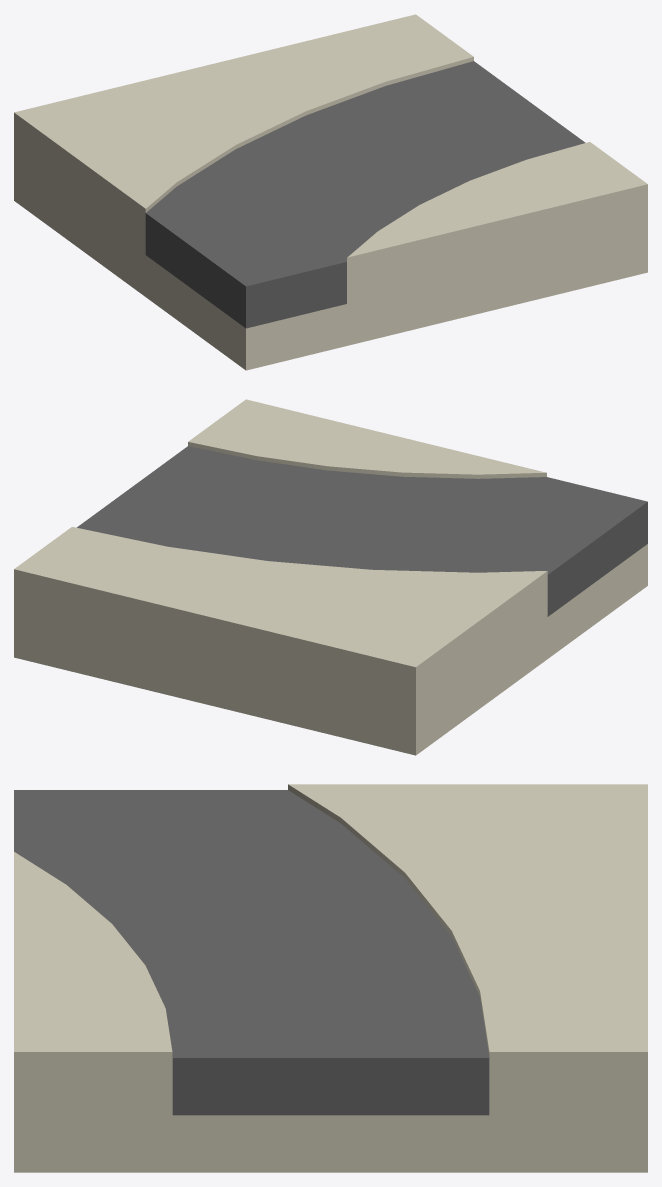
File: tile019.dae
The picture shows the model from 3 angles, top to bottom: view 1: azimuth 30°, elevation 25°; view 2: azimuth 150°, elevation 25°; view 3: azimuth 270°, elevation 25°; orthographic projection. The views are drawn at different scales.
Parts seen in each view (by area): view 1: tile019; view 2: tile019; view 3: tile019.
Part boxes in pixels (x1,y1,x2,y2): tile019: [14, 14, 647, 370]; tile019: [14, 399, 647, 755]; tile019: [14, 784, 647, 1172].
Size of the model in its own units: 1 by 0.21 by 1.
